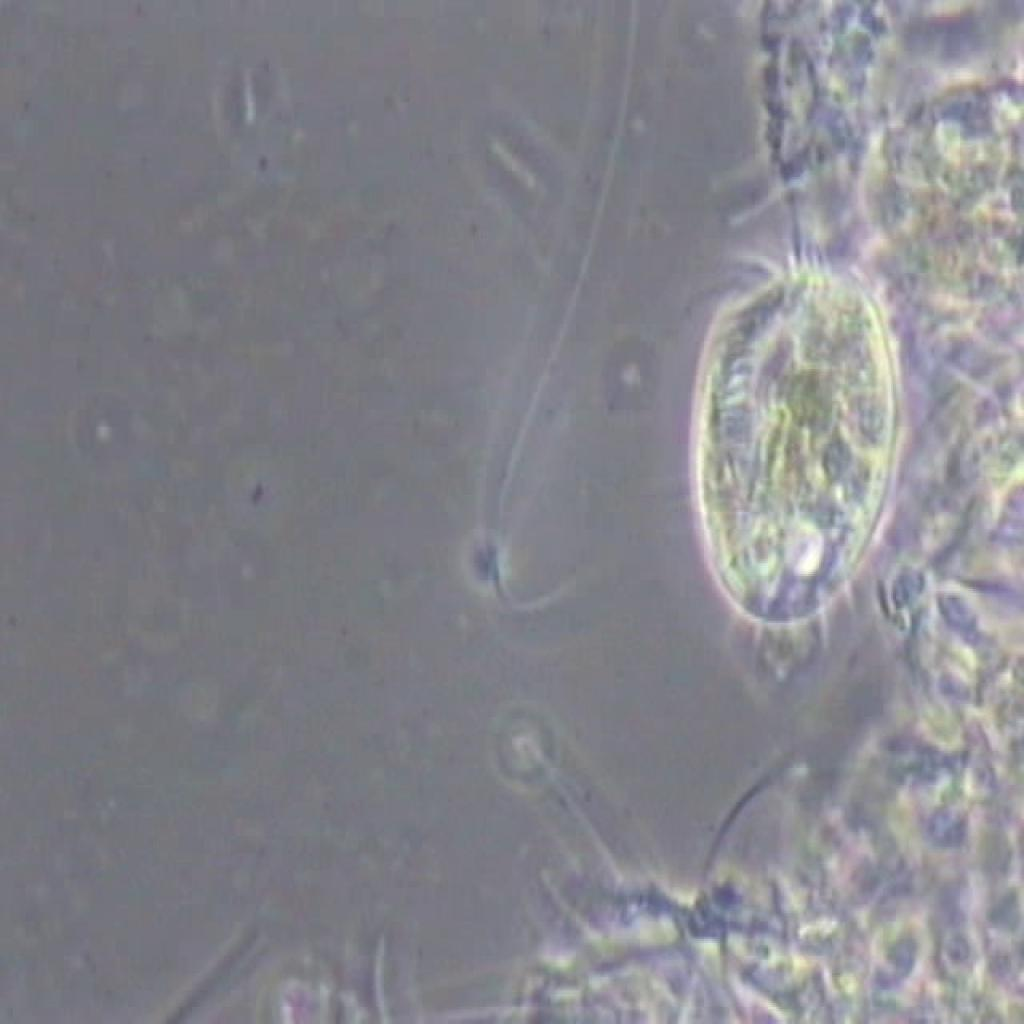Euplotes: (676, 208, 913, 701)
